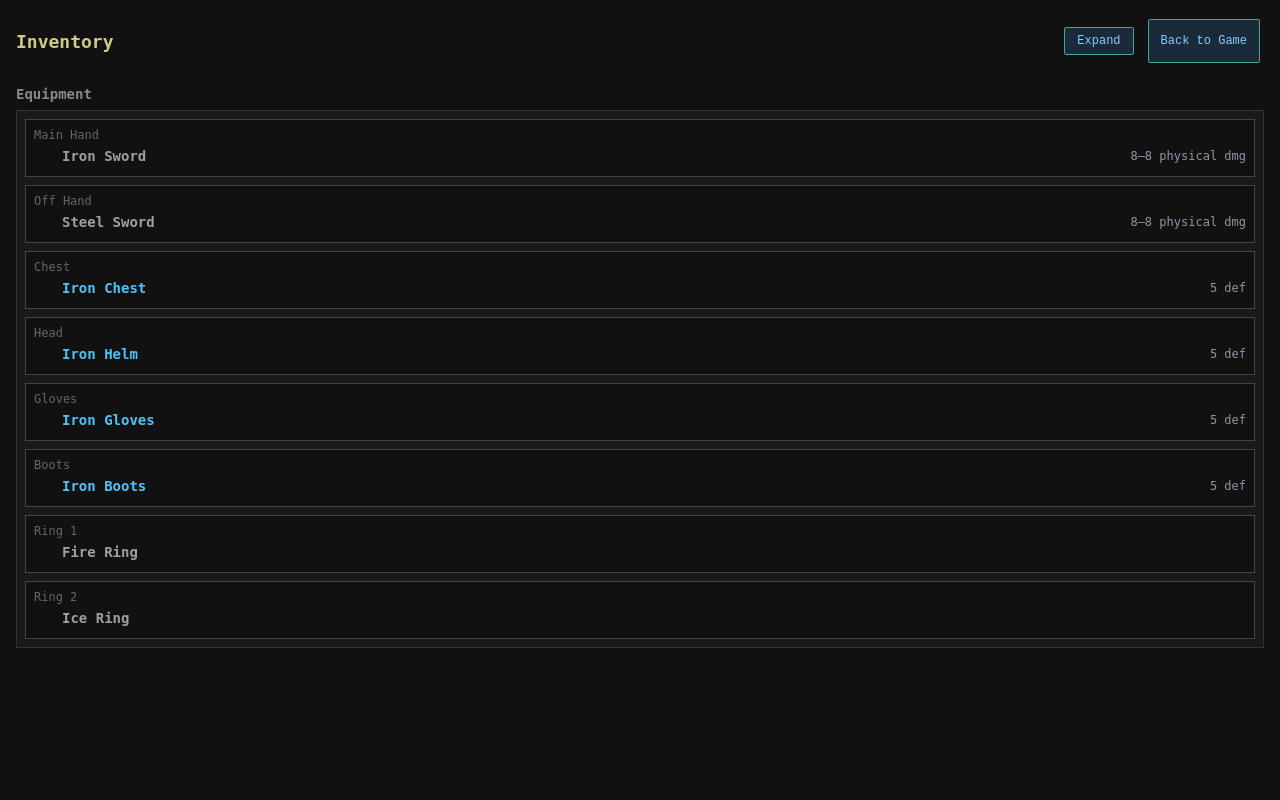
Test: InventoryScreen Component › Mobile Layout with Fully Equipped Player › maintains proper layout on mobile even with many fully equipped items and bag items
Check: the heading "Equipment" is shown, box [16,86,92,102]
# Should be able to expand and see bag items
Click the button "Expand": (1099, 41) [1064,27,1134,55]
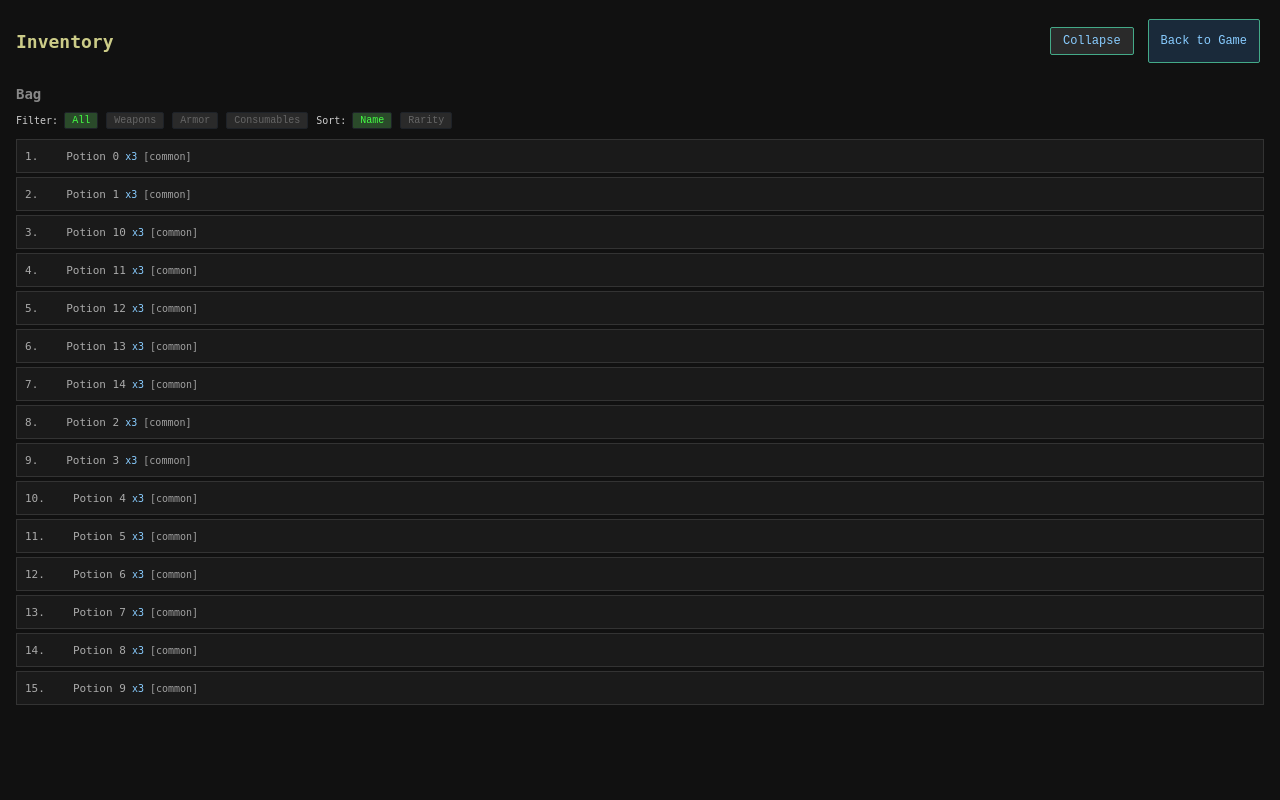
Check: the heading "Bag" is shown, box [16,86,41,102]
Check: the text "Potion 0" is shown, box [66,150,119,162]
